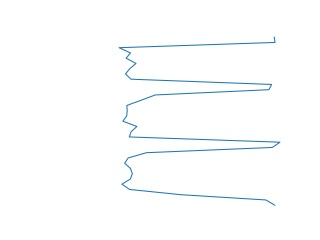majorRiverChannelBar: (115, 35, 283, 207)
